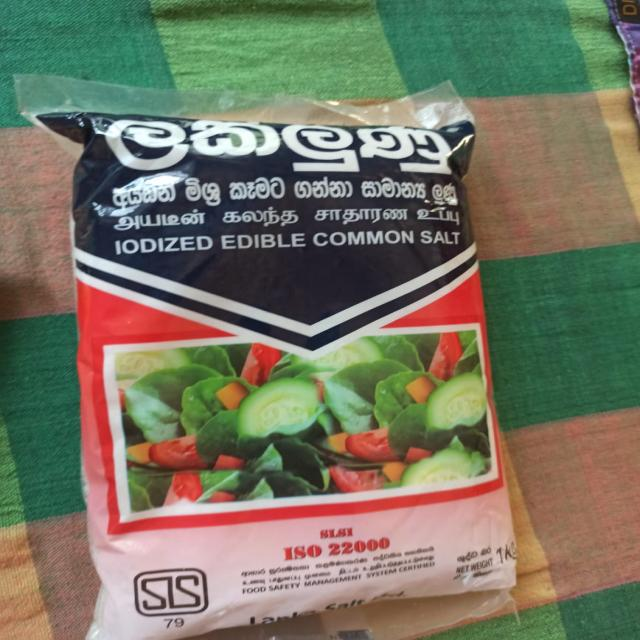Lak Lunu: (0, 52, 576, 640)
